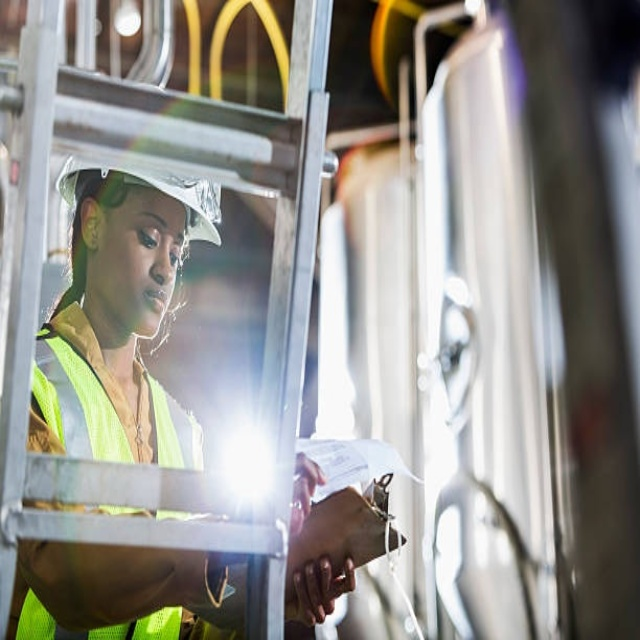Sin_gafas: (124, 202, 186, 273)
Sin_guantes: (288, 548, 356, 631), (290, 451, 327, 538)
Sin_mascara: (119, 281, 178, 329)
